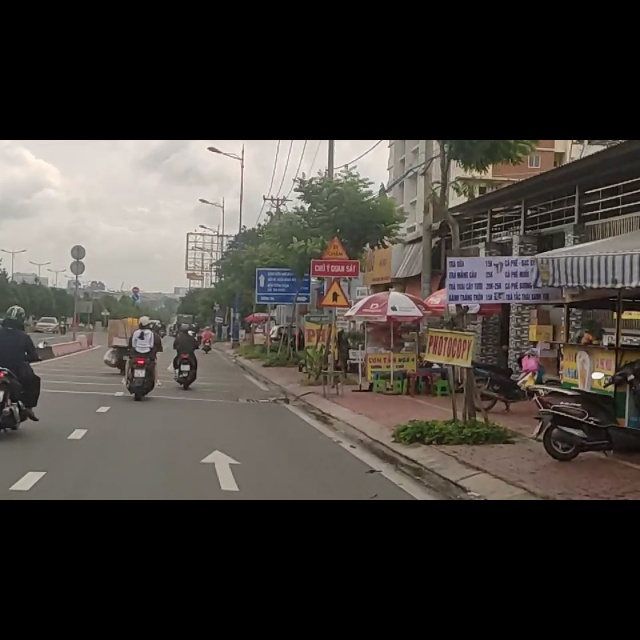bien_nguy_hiem: (319, 249, 351, 297), (321, 167, 351, 212)
